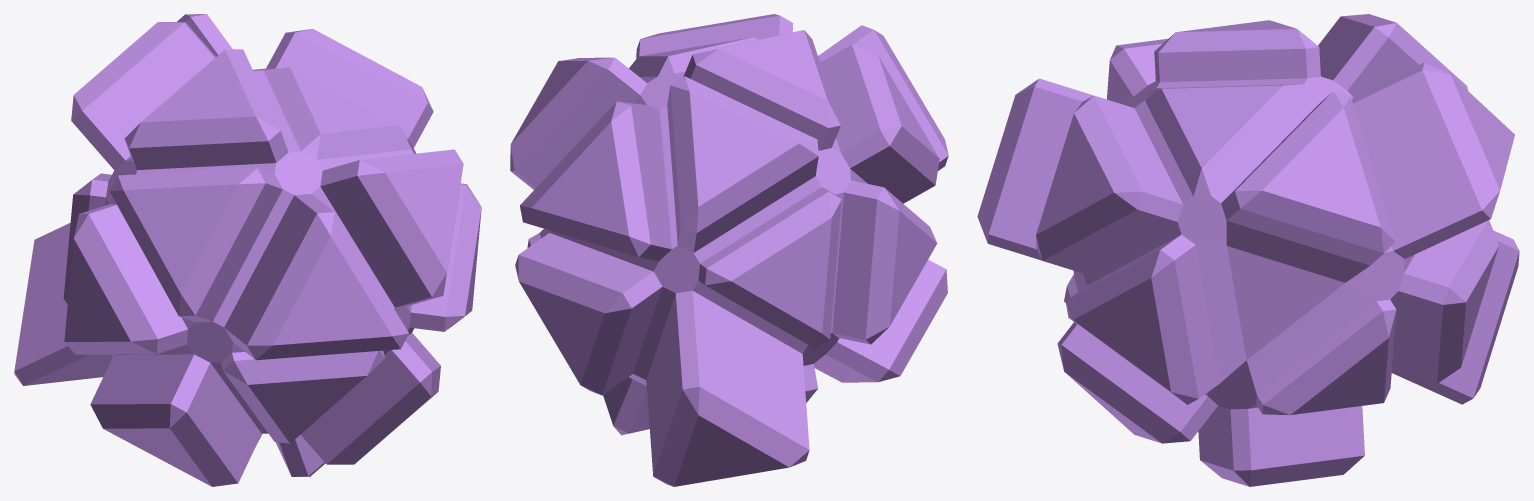
File: otherIsland02.fbx
3 views of the same model, side by side, from view 1: azimuth 30°, elevation 25°; view 2: azimuth 150°, elevation 25°; view 3: azimuth 270°, elevation 25° (orthographic). The views are drawn at different scales.
Visible parts, largest first — view 1: Icosphere.015; view 2: Icosphere.015; view 3: Icosphere.015.
Boxes of the visible parts, bbox=[...] form: Icosphere.015: bbox=[14, 14, 481, 486]; Icosphere.015: bbox=[510, 14, 948, 486]; Icosphere.015: bbox=[977, 14, 1519, 486].
Bounding box in the file's own units: 1153 × 1286 × 1486.
